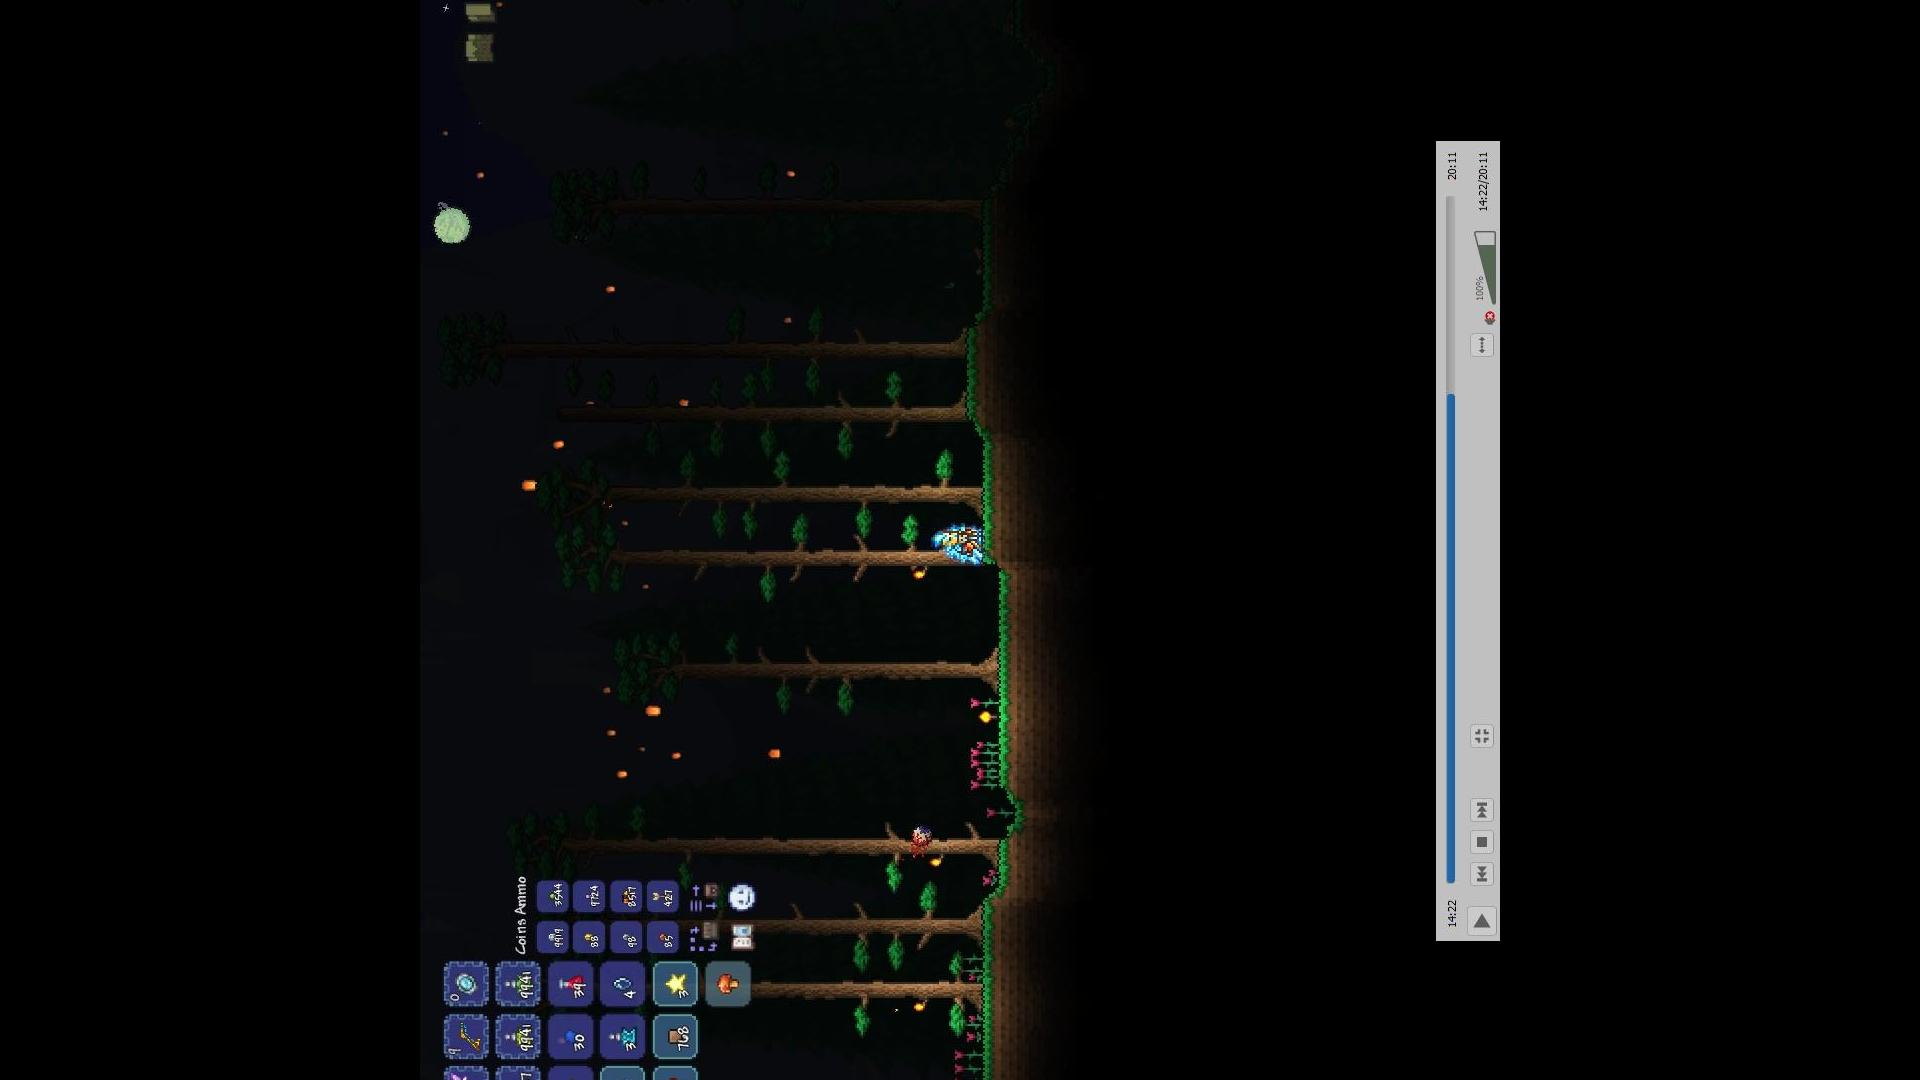mirror: (452, 972, 480, 998)
star: (662, 964, 688, 996)
